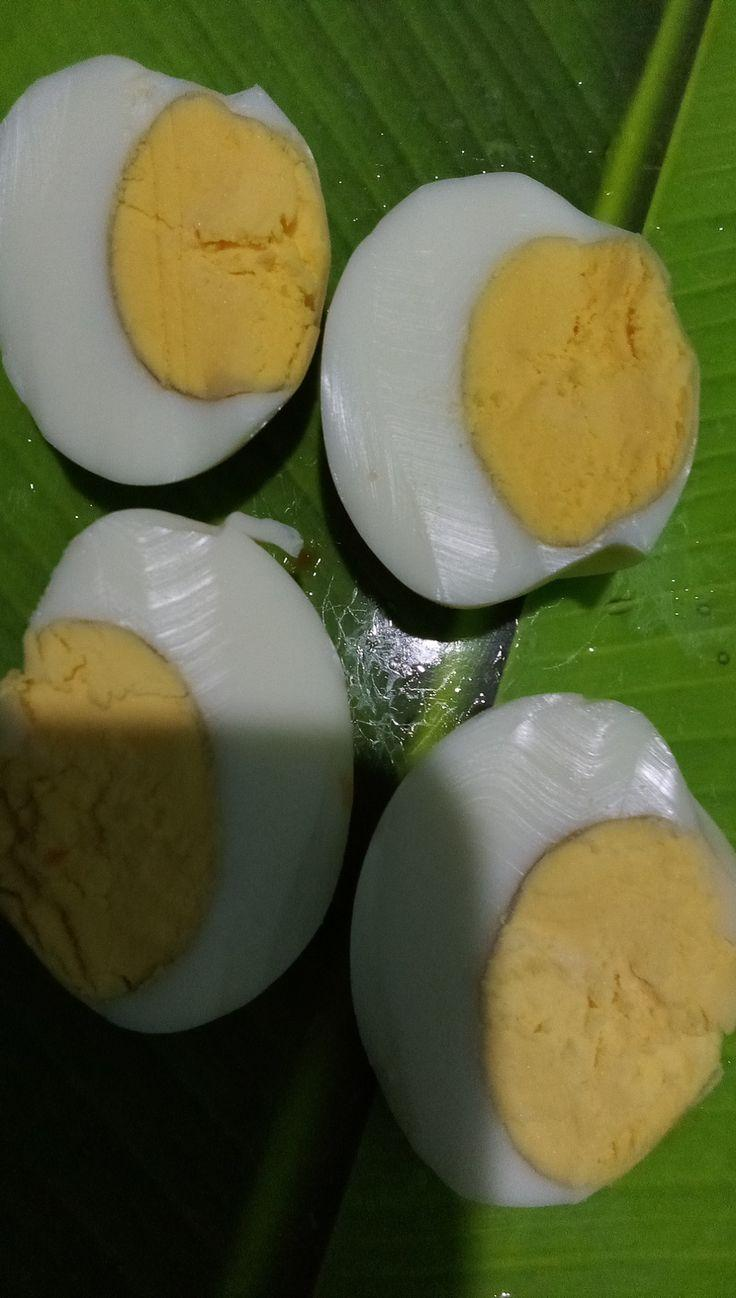eggs: (0, 48, 736, 1191)
